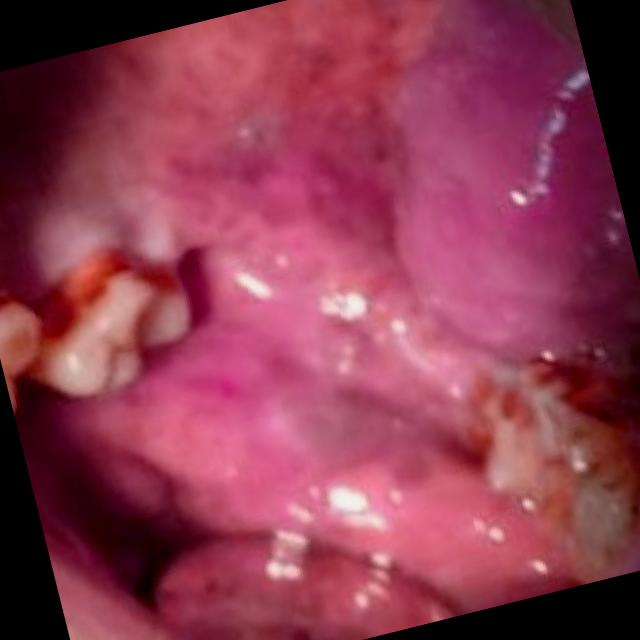Cancer: (312, 416, 574, 640), (145, 0, 433, 176)
